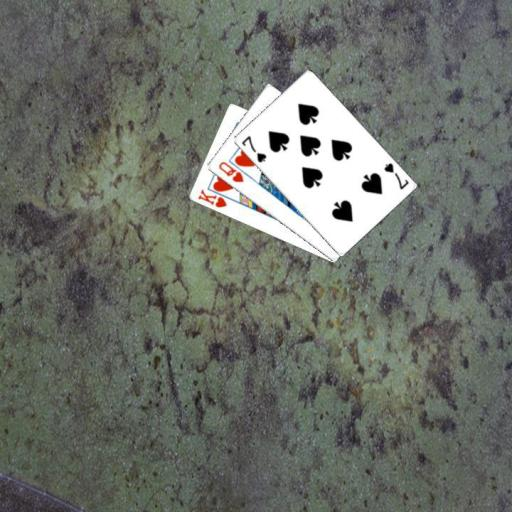7S: (238, 133, 268, 165), (381, 160, 411, 192)
KH: (194, 186, 228, 209)
QH: (215, 159, 245, 184)
